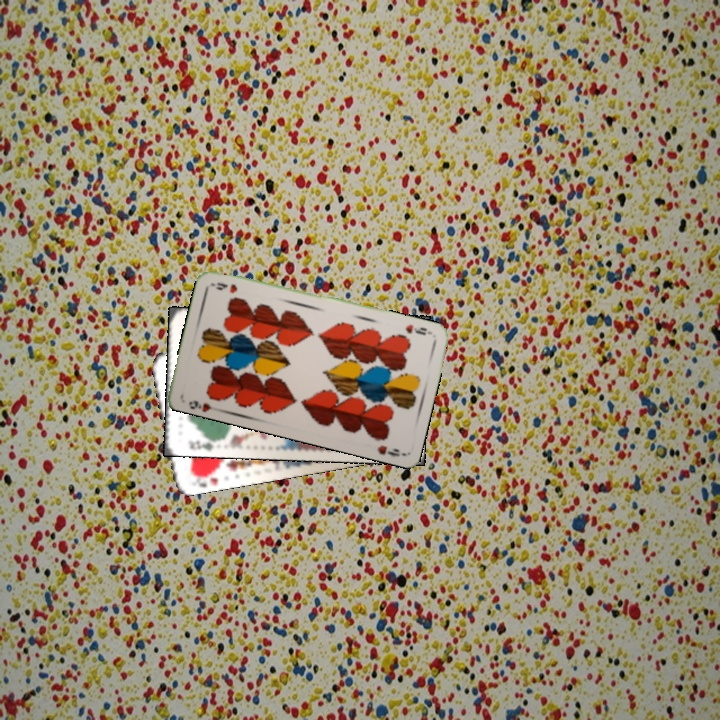GK: (185, 432, 220, 452)
H9: (401, 320, 429, 338), (185, 396, 214, 413)
HK: (189, 466, 221, 489)
